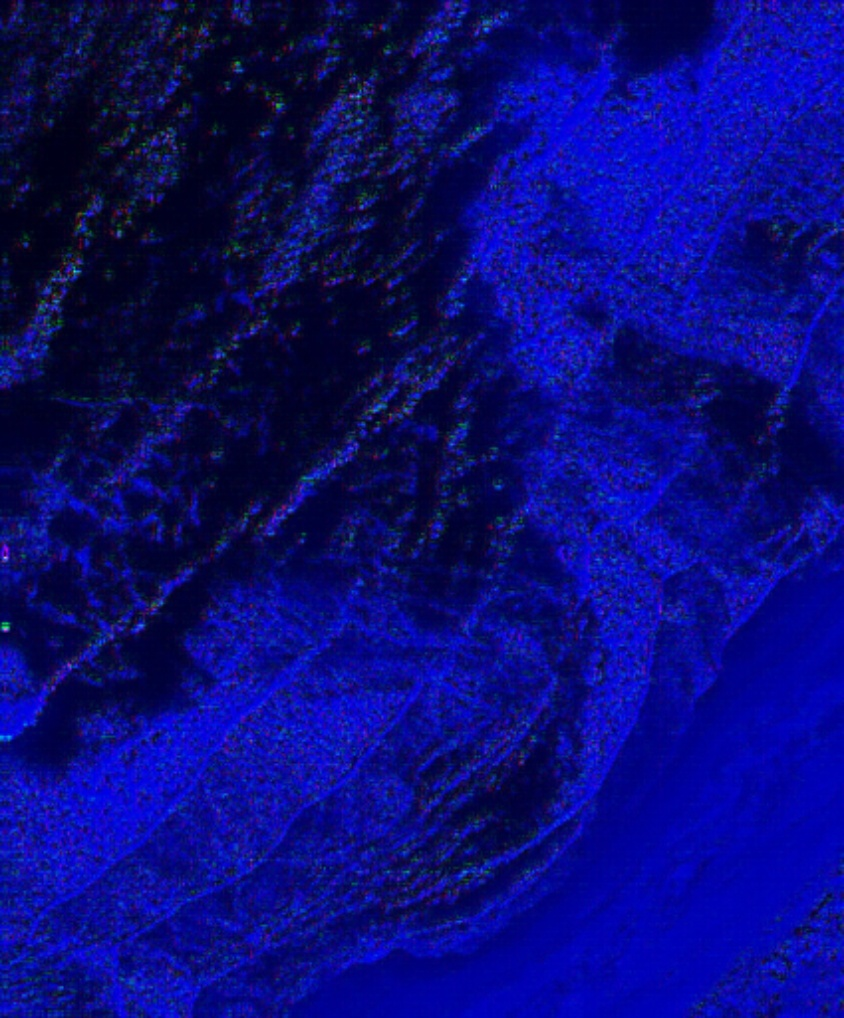rip_current: (147, 183, 625, 744)
